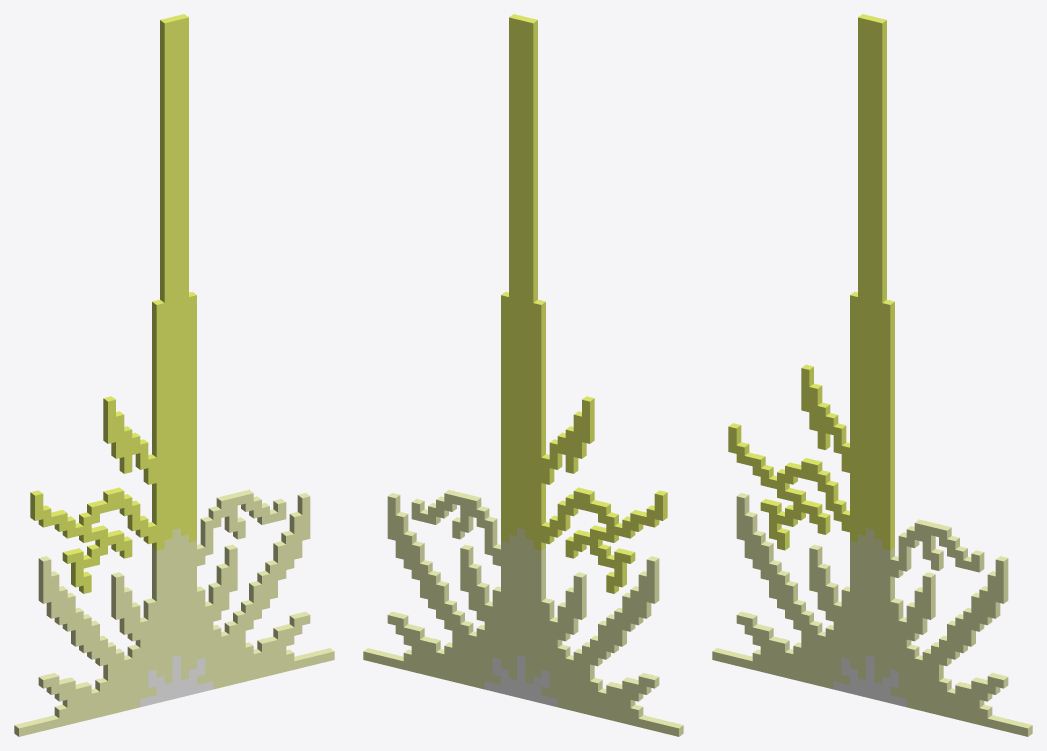
Rendered from ThunderLordDeathEffect.obj.
The picture shows the model from 3 angles, left to right: view 1: azimuth 30°, elevation 25°; view 2: azimuth 150°, elevation 25°; view 3: azimuth 330°, elevation 25°; orthographic projection.
Parts seen in each view (by area): view 1: ThunderLordDeathEffect; view 2: ThunderLordDeathEffect; view 3: ThunderLordDeathEffect.
Boxes of the visible parts, box(x1,y1,x2,y2) form: ThunderLordDeathEffect: box(14, 14, 334, 736); ThunderLordDeathEffect: box(363, 14, 683, 736); ThunderLordDeathEffect: box(712, 14, 1032, 736).
Size of the model in its own units: 39 by 80 by 1.
1 material, 1 textured.
